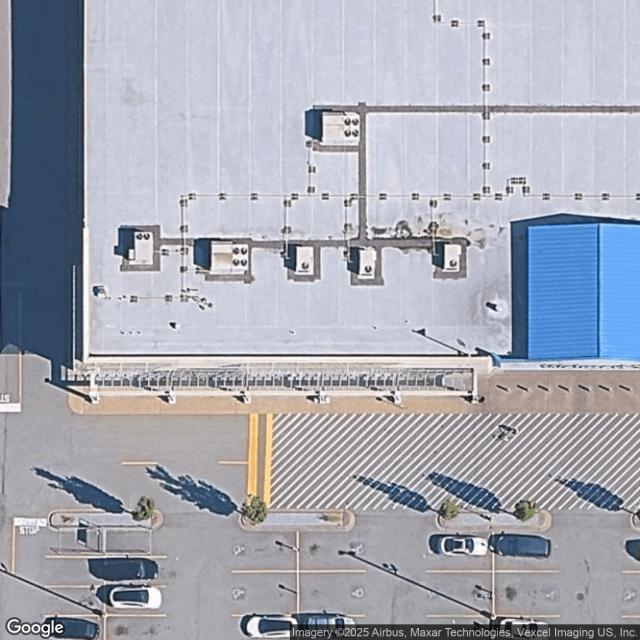car: (43, 615, 100, 640), (497, 533, 550, 559), (106, 587, 163, 609), (104, 558, 158, 580), (436, 535, 488, 557), (303, 616, 357, 636), (498, 618, 551, 638), (242, 618, 298, 636)
lot_boundary: (0, 408, 640, 640)
